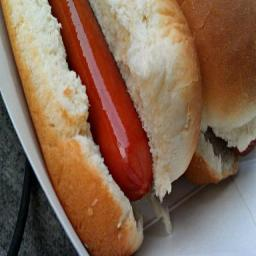hotdog: (48, 2, 154, 199)
